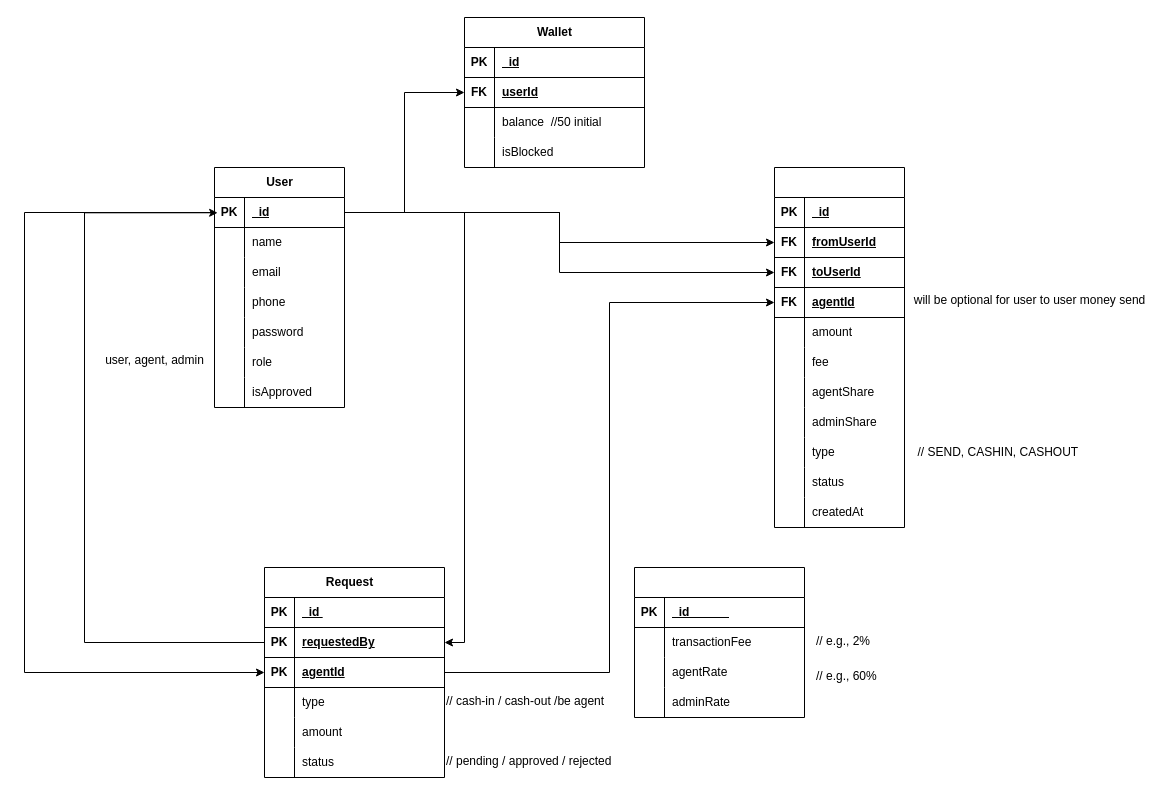
This 1172x795 diagram has some shape labels left out. Here are the shapes that lost their labels. From the top down, the box of each, then its label:
(774, 166, 904, 528): Transaction
(634, 566, 804, 718): SystemSettings
